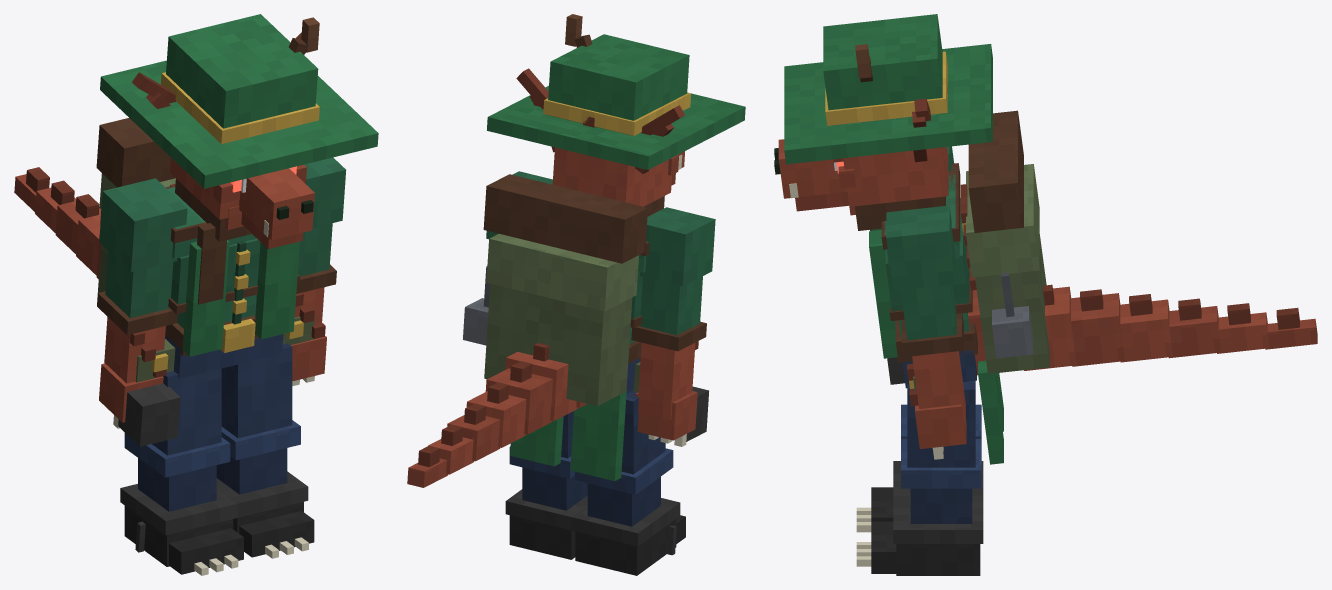
Rendered from lizard_marchand_v3.glb.
3 renders of one model, left to right at view 1: azimuth 30°, elevation 25°; view 2: azimuth 150°, elevation 25°; view 3: azimuth 270°, elevation 25°, orthographic. The views are drawn at different scales.
Parts seen in each view (by area): view 1: Head, Torso, LegR, ArmR, LegL, ArmL, HandR, Root; view 2: Torso, Head, ArmR, LegR, LegL, HandR; view 3: Torso, Head, ArmL, LegL, LegR, Root.
Part boxes in pixels (x1=…): Head: x1=100, y1=14, x2=378, y2=249; Torso: x1=14, y1=118, x2=314, y2=382; LegR: x1=120, y1=368, x2=243, y2=574; ArmR: x1=97, y1=178, x2=187, y2=428; LegL: x1=216, y1=343, x2=314, y2=557; ArmL: x1=290, y1=157, x2=346, y2=386; HandR: x1=118, y1=383, x2=180, y2=552; Root: x1=194, y1=537, x2=308, y2=575; Torso: x1=407, y1=174, x2=649, y2=487; Head: x1=487, y1=14, x2=745, y2=216; ArmR: x1=631, y1=207, x2=715, y2=446; LegR: x1=571, y1=391, x2=685, y2=575; LegL: x1=505, y1=411, x2=587, y2=559; HandR: x1=667, y1=386, x2=708, y2=555; Torso: x1=869, y1=110, x2=1317, y2=464; Head: x1=774, y1=14, x2=992, y2=230; ArmL: x1=886, y1=205, x2=966, y2=459; LegL: x1=871, y1=381, x2=983, y2=575; LegR: x1=871, y1=404, x2=983, y2=521; Root: x1=856, y1=507, x2=871, y2=566.
Size of the model in its own units: 0.78 by 1.86 by 1.75.
34 materials, 34 textured.
